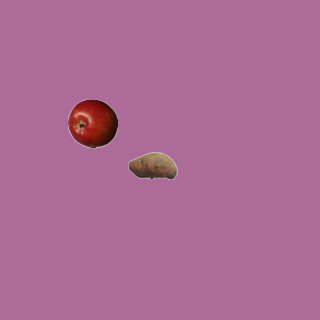Apple Braeburn: (67, 98, 117, 148)
Potato Sweet: (127, 140, 177, 190)
